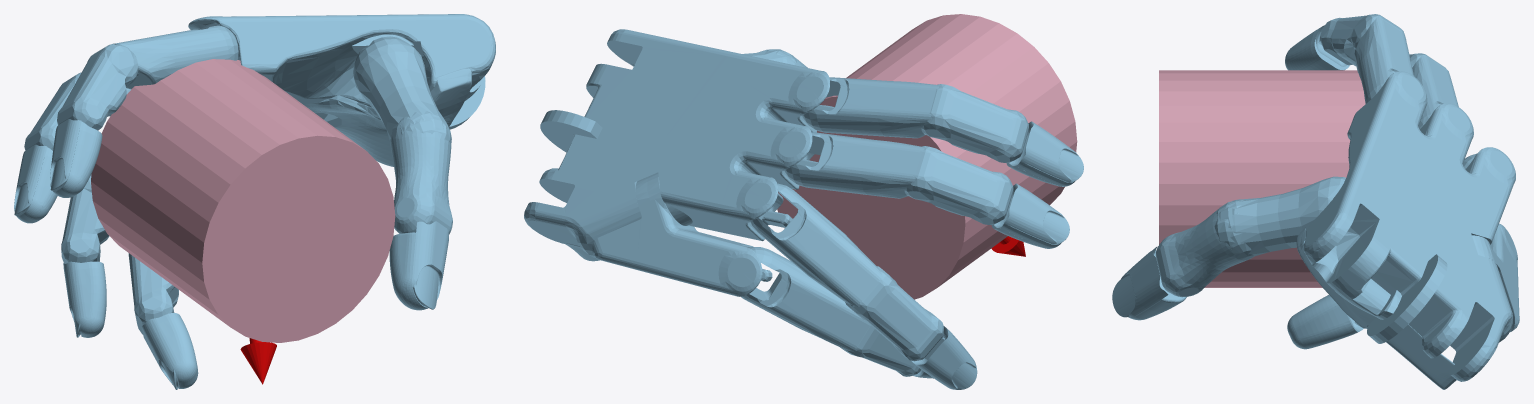
3 views of the same model, side by side, from view 1: azimuth 30°, elevation 25°; view 2: azimuth 150°, elevation 25°; view 3: azimuth 270°, elevation 25° (orthographic). The views are drawn at different scales.
Visible parts, largest first — view 1: world, cylinder_medium.stl; view 2: world, cylinder_medium.stl; view 3: world, cylinder_medium.stl.
Part boxes in pixels (<box>): world: <box>14,14,495,389</box>; cylinder_medium.stl: <box>91,59,395,342</box>; world: <box>524,29,1083,389</box>; cylinder_medium.stl: <box>777,14,1077,299</box>; world: <box>1112,14,1519,389</box>; cylinder_medium.stl: <box>1159,70,1365,287</box>.
Bounding box in the file's own units: 0.2041 × 0.1283 × 0.1496.
